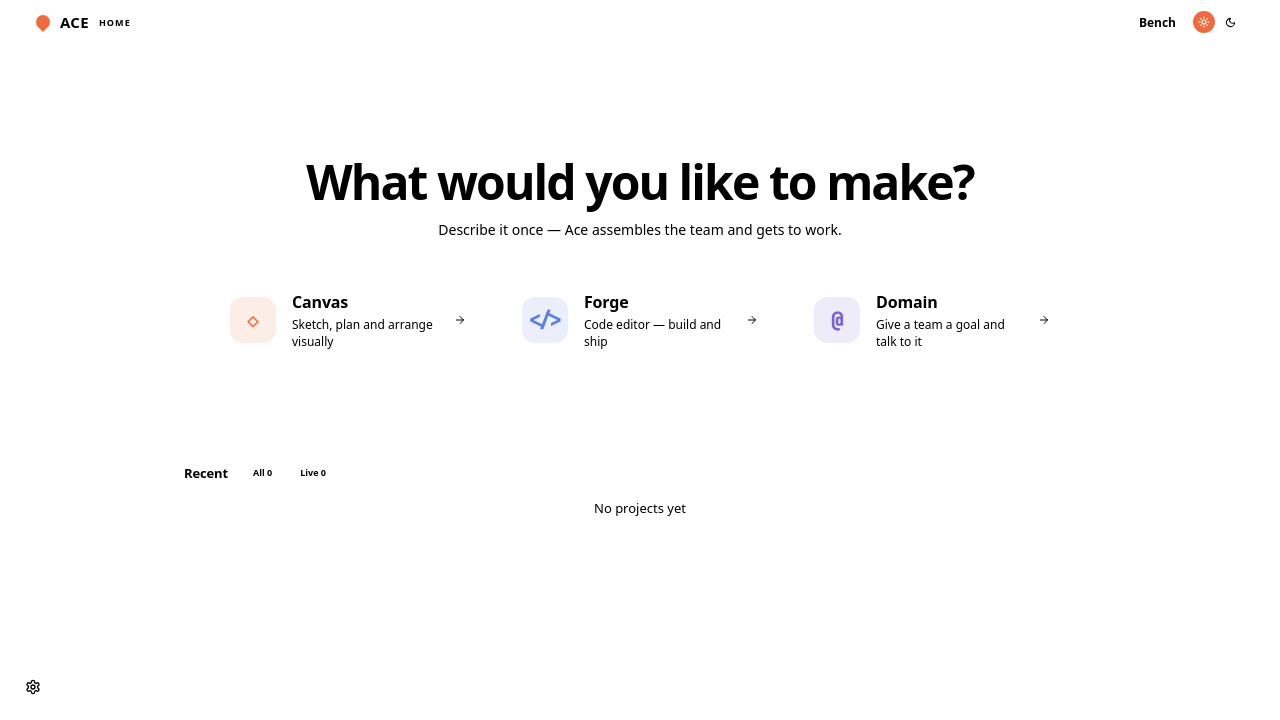
Home entry cards (FR-PRJ-001, D337) › TC-PRJ-002: an unwritable folder shows the invalid_path error inline, naming the path
The width and height of the screenshot is (1280, 720).
Step 1. Click the button "◇ Canvas Sketch, plan and arrange visually" → (348, 320), box x1=210 y1=273 x2=486 y2=368
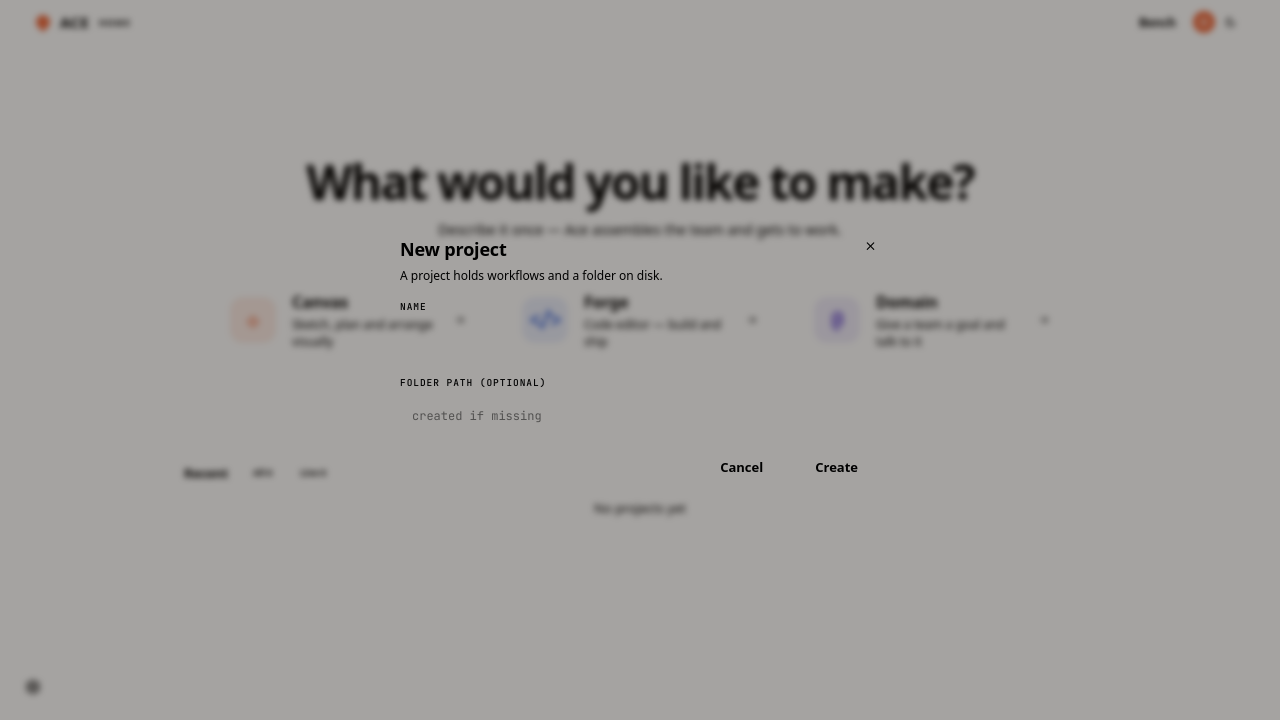
Step 2. Type "Bad" into the field labelled "Name" → (640, 340), box x1=400 y1=321 x2=880 y2=359
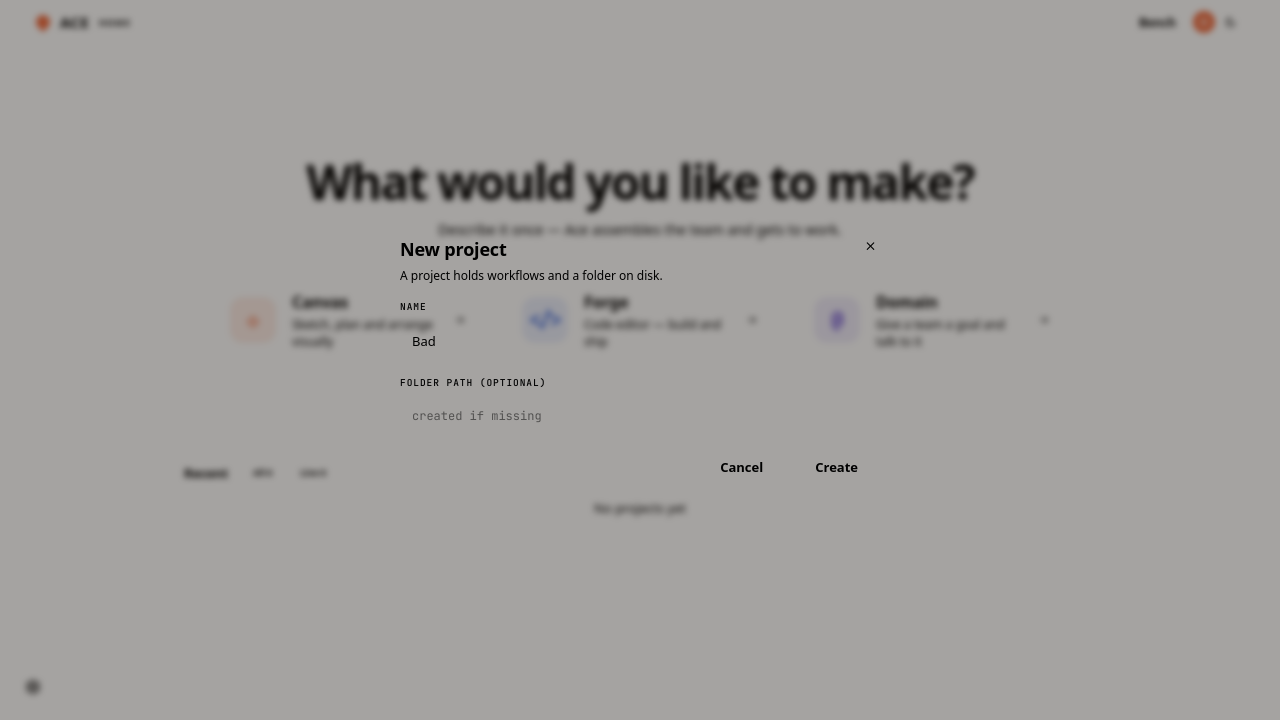
Step 3. Type "/readonly/bad" into the field labelled "Folder path (optional)" → (640, 415), box x1=400 y1=396 x2=880 y2=434
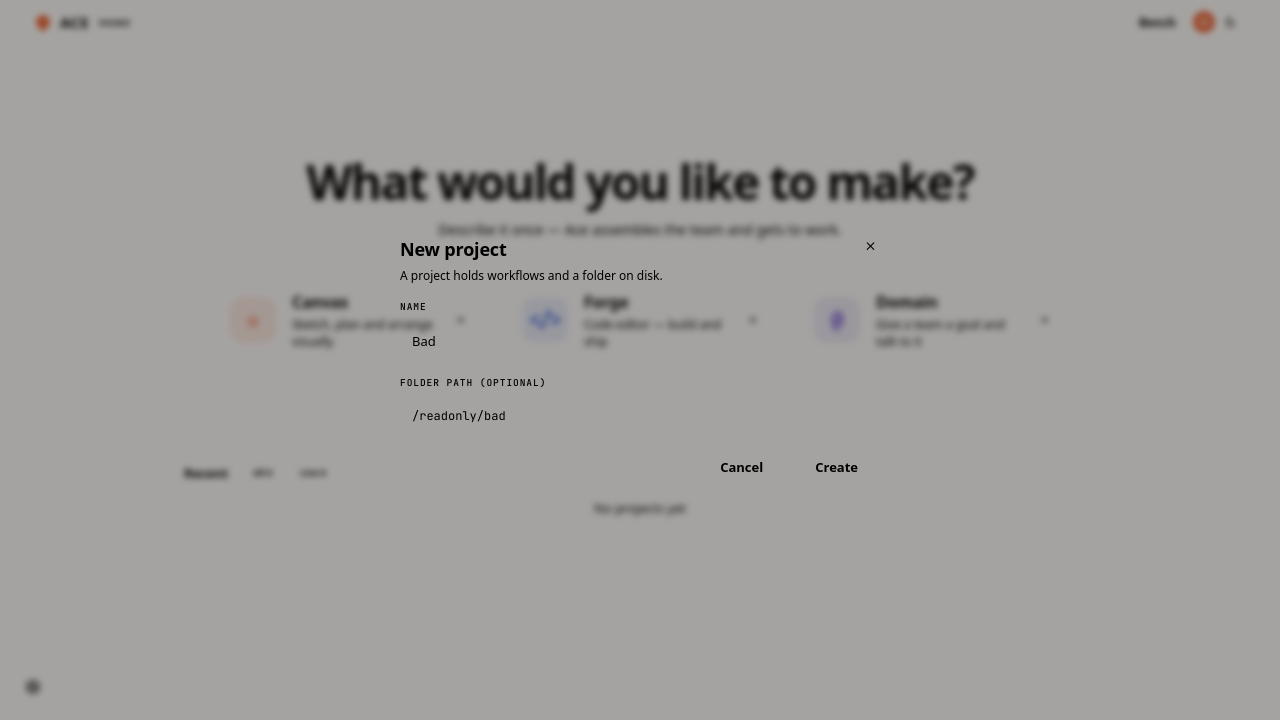
Step 4. Click the button "Create" → (837, 467), box x1=793 y1=450 x2=880 y2=484
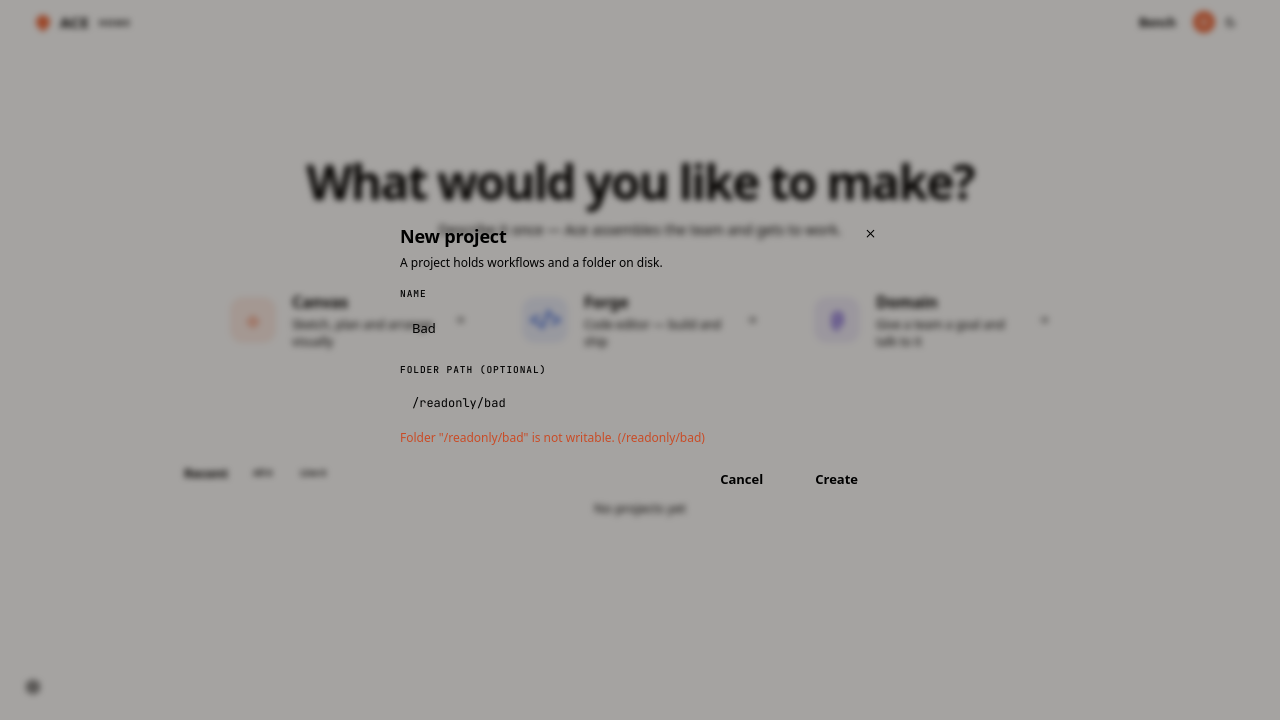
Check: the message shows "/readonly/bad", box x1=400 y1=429 x2=705 y2=446
